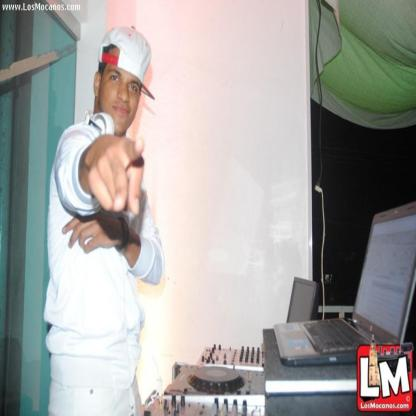board: (272, 204, 416, 367)
